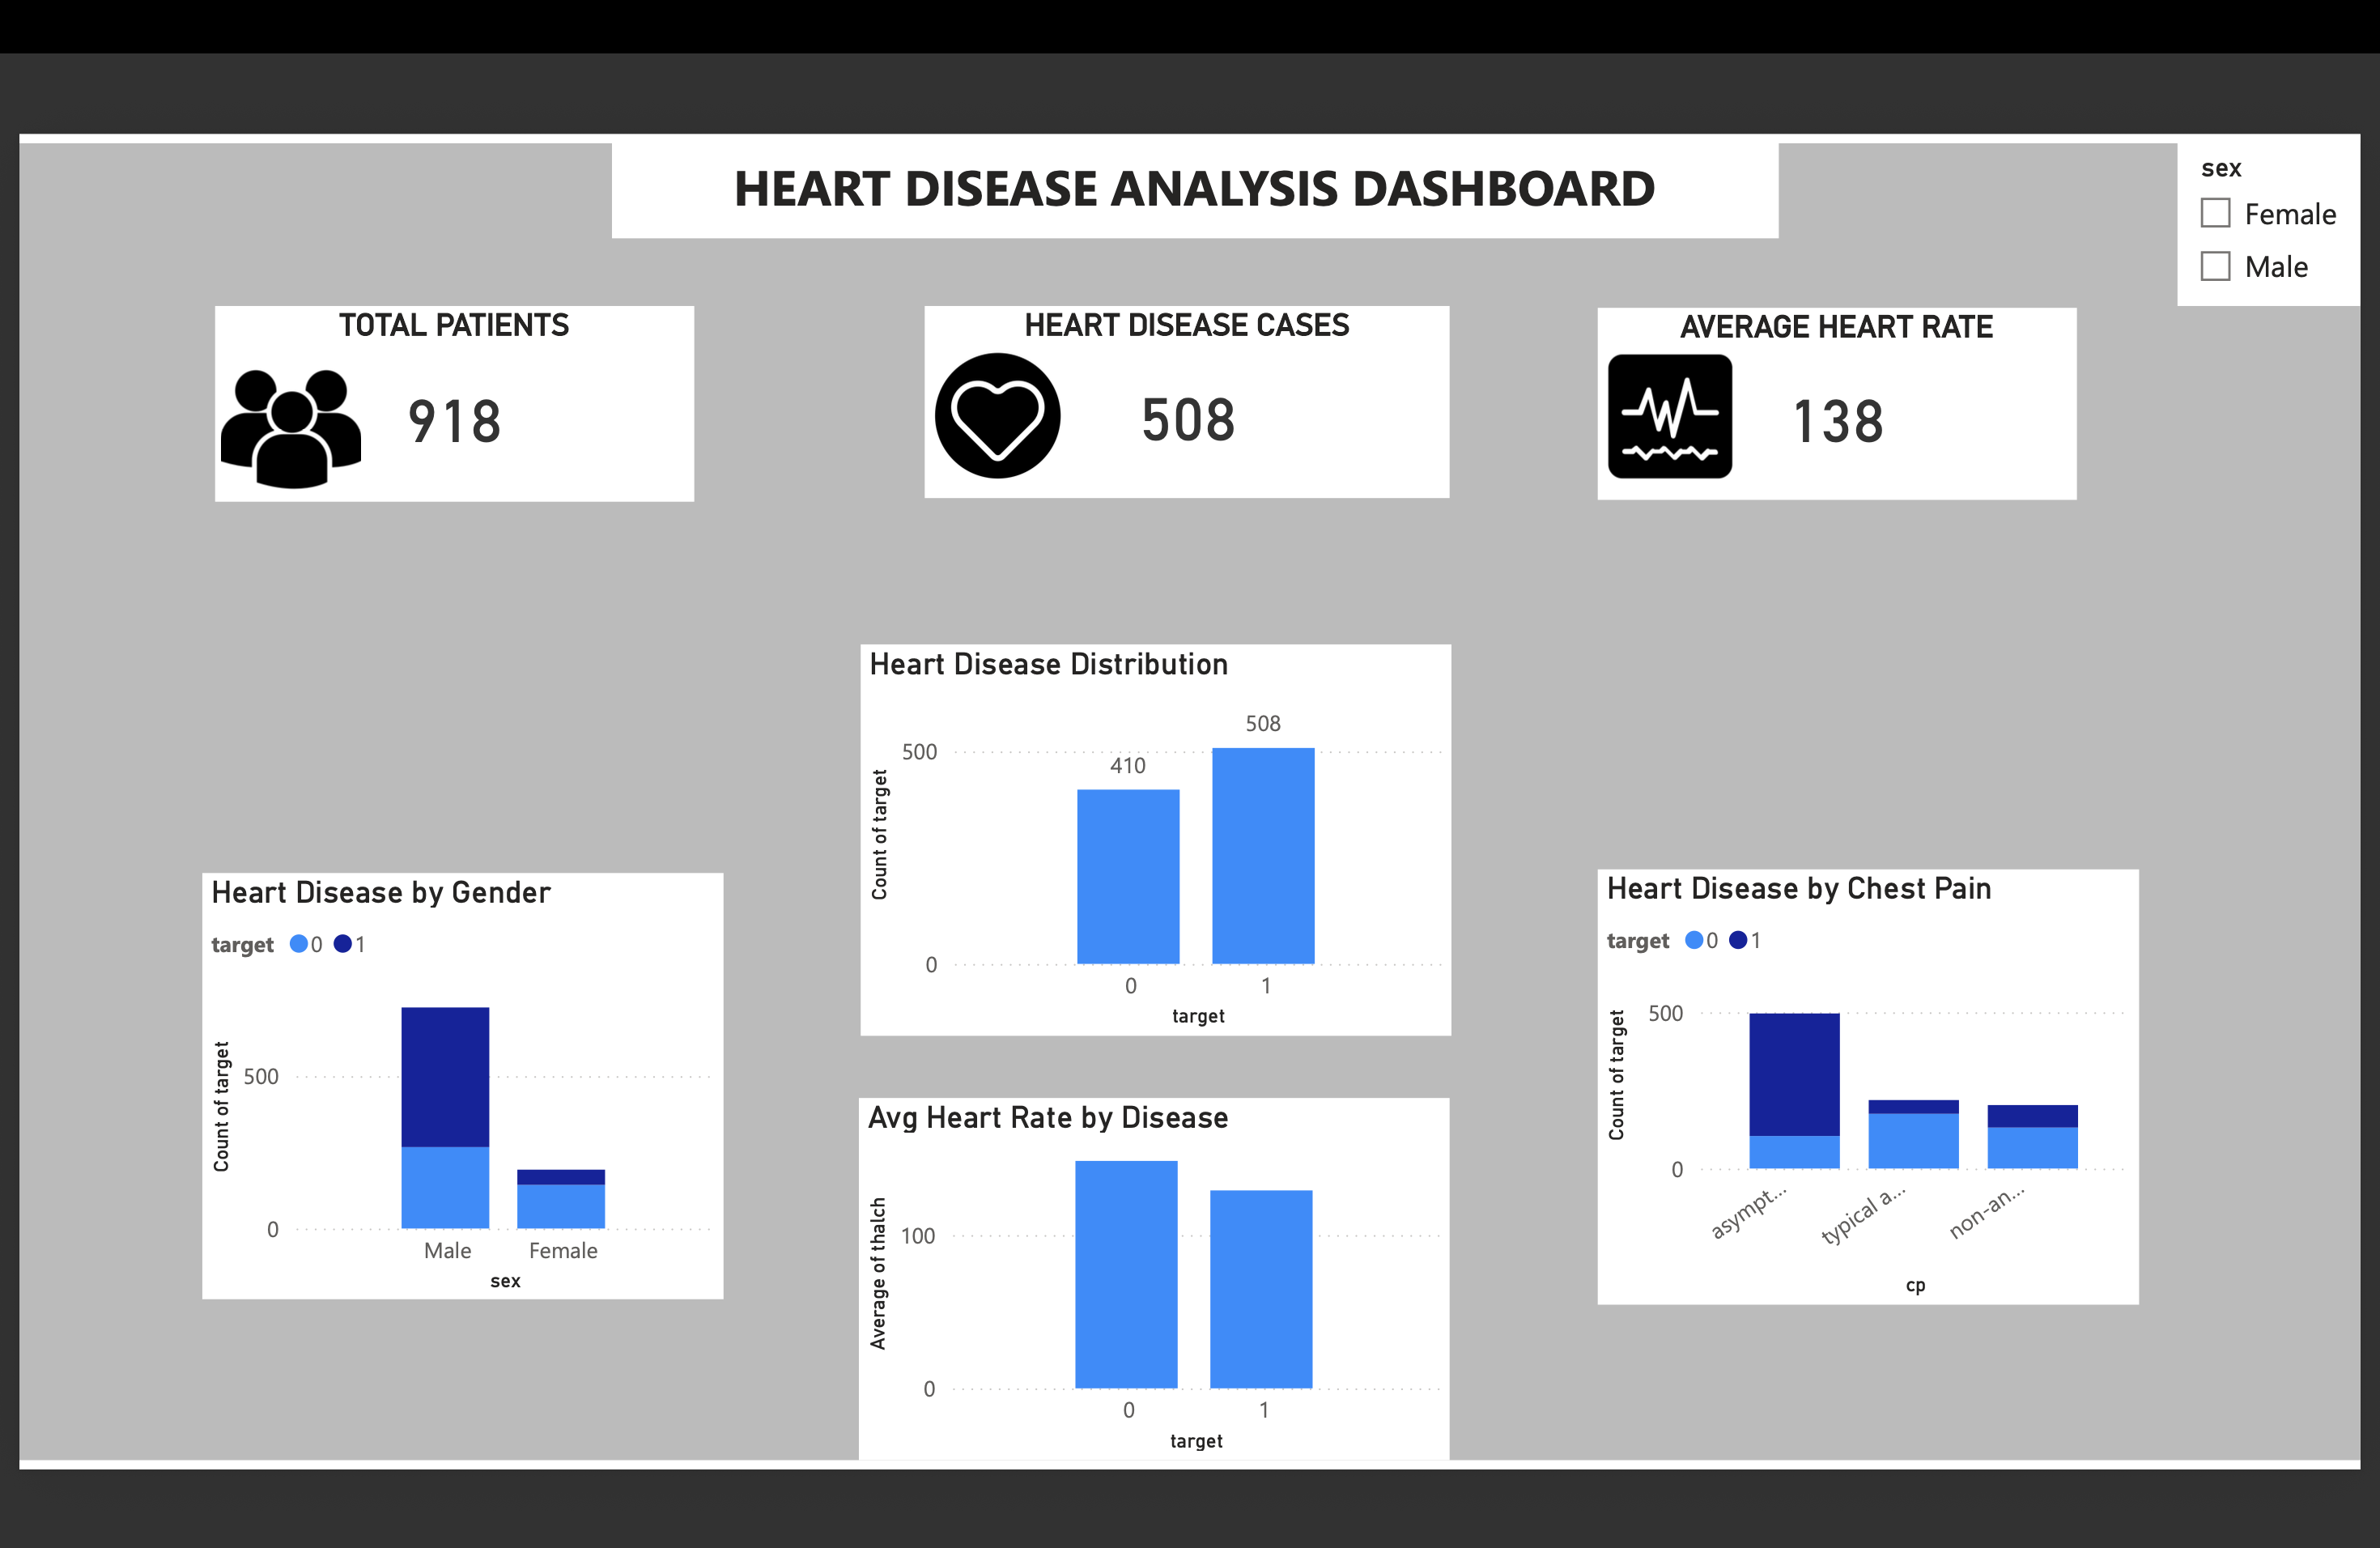

This screenshot's page, from the dashboard's own definition file:
{"tool":"powerbi","page":{"name":"Page 1","canvas":[1280,720],"ordinal":0},"visuals":[{"type":"clusteredColumnChart","title":"Heart Disease Distribution","fields":{"Category":["cleaned_heart_data.target"],"Y":["CountNonNull(cleaned_heart_data.target)"]},"box":[459.9,274.1,322.8,213.7],"z":0},{"type":"columnChart","title":"Heart Disease by Gender","fields":{"Category":["cleaned_heart_data.sex"],"Y":["CountNonNull(cleaned_heart_data.target)"],"Series":["cleaned_heart_data.target"]},"box":[99.9,399.4,284.8,233.3],"z":1000},{"type":"columnChart","title":"Heart Disease by Chest Pain","fields":{"Category":["cleaned_heart_data.cp"],"Y":["CountNonNull(cleaned_heart_data.target)"],"Series":["cleaned_heart_data.target"]},"box":[862.9,397.3,296.4,237.5],"z":2000},{"type":"slicer","fields":{"Values":["cleaned_heart_data.sex"]},"box":[1180,0,99.5,89.4],"z":3000},{"type":"columnChart","title":"Avg Heart Rate by Disease","fields":{"Category":["cleaned_heart_data.target"],"Y":["Avg(cleaned_heart_data.thalch)"]},"box":[459.4,521.8,322.6,197.7],"z":4000},{"type":"textbox","box":[324,0,637.5,52.3],"z":5000},{"type":"advanceCardE03760C5AB684758B56AA29F9E6C257B","title":"HEART DISEASE CASES","fields":{"mainMeasure":["Sum(cleaned_heart_data.target)"]},"box":[494.6,89.3,287.1,105],"z":6000},{"type":"advanceCardE03760C5AB684758B56AA29F9E6C257B","title":"AVERAGE HEART RATE","fields":{"mainMeasure":["Avg(cleaned_heart_data.thalch)"]},"box":[863,89.8,261.8,105],"z":7000},{"type":"advanceCardE03760C5AB684758B56AA29F9E6C257B","title":"TOTAL PATIENTS","fields":{"mainMeasure":["CountNonNull(cleaned_heart_data.age)"]},"box":[106.8,89,261.5,106.8],"z":8000},{"type":"image","box":[100,117.8,97.2,76.7],"z":8002},{"type":"image","box":[862.6,112.2,79.6,76],"z":8004},{"type":"image","box":[494.6,112.2,79.6,73.6],"z":8005}]}

Visuals, with their boxes on the page's 1280x720 design canvas (x1, y1, x2, y2). These are canvas units, not pixel positions in the 2380x1548 screenshot, which may show the page scaled, cropped or inside an application window:
"Heart Disease Distribution" clusteredColumnChart: crop(460, 274, 783, 488)
"Heart Disease by Gender" columnChart: crop(100, 399, 385, 633)
"Heart Disease by Chest Pain" columnChart: crop(863, 397, 1159, 635)
slicer - cleaned_heart_data.sex: crop(1180, 0, 1280, 89)
"Avg Heart Rate by Disease" columnChart: crop(459, 522, 782, 720)
textbox: crop(324, 0, 962, 52)
"HEART DISEASE CASES" advanceCardE03760C5AB684758B56AA29F9E6C257B: crop(495, 89, 782, 194)
"AVERAGE HEART RATE" advanceCardE03760C5AB684758B56AA29F9E6C257B: crop(863, 90, 1125, 195)
"TOTAL PATIENTS" advanceCardE03760C5AB684758B56AA29F9E6C257B: crop(107, 89, 368, 196)
image: crop(100, 118, 197, 194)
image: crop(863, 112, 942, 188)
image: crop(495, 112, 574, 186)
